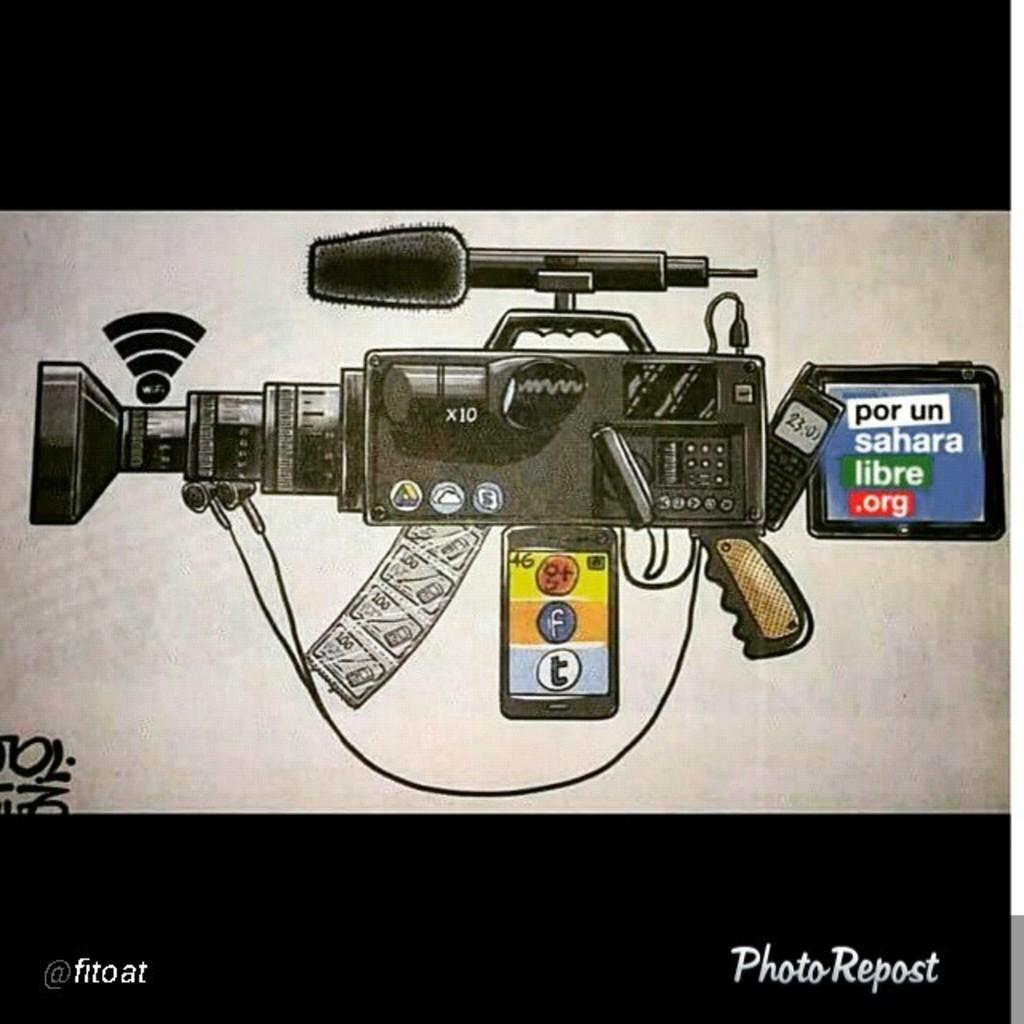Rifle: (29, 221, 814, 701)
